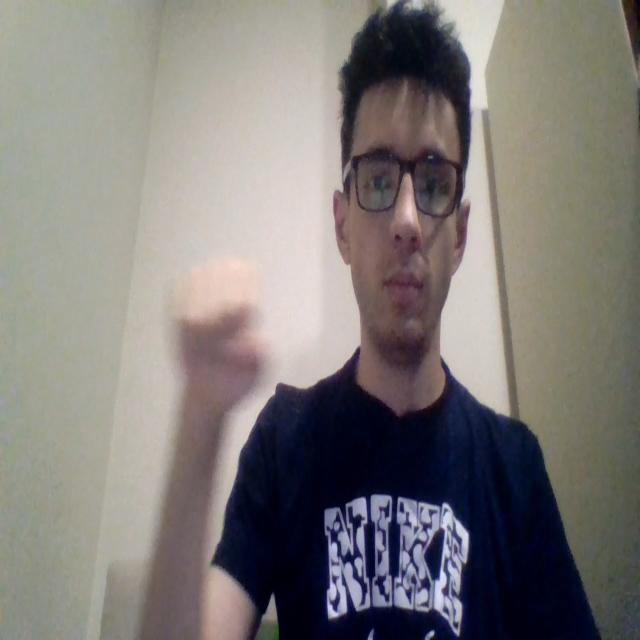yes: (170, 254, 268, 420)
